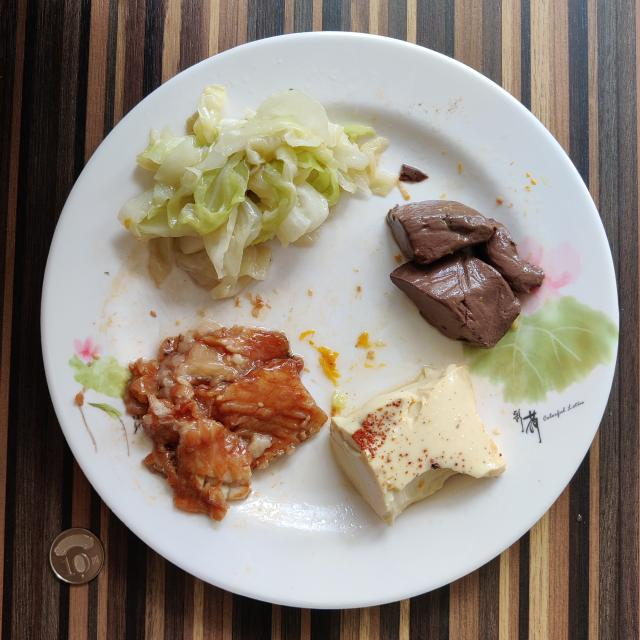Kabayaki sea bream fillet: (124, 324, 328, 520)
cabbage: (118, 85, 398, 299)
coin: (50, 528, 104, 584)
pig blood curd: (388, 200, 544, 349)
